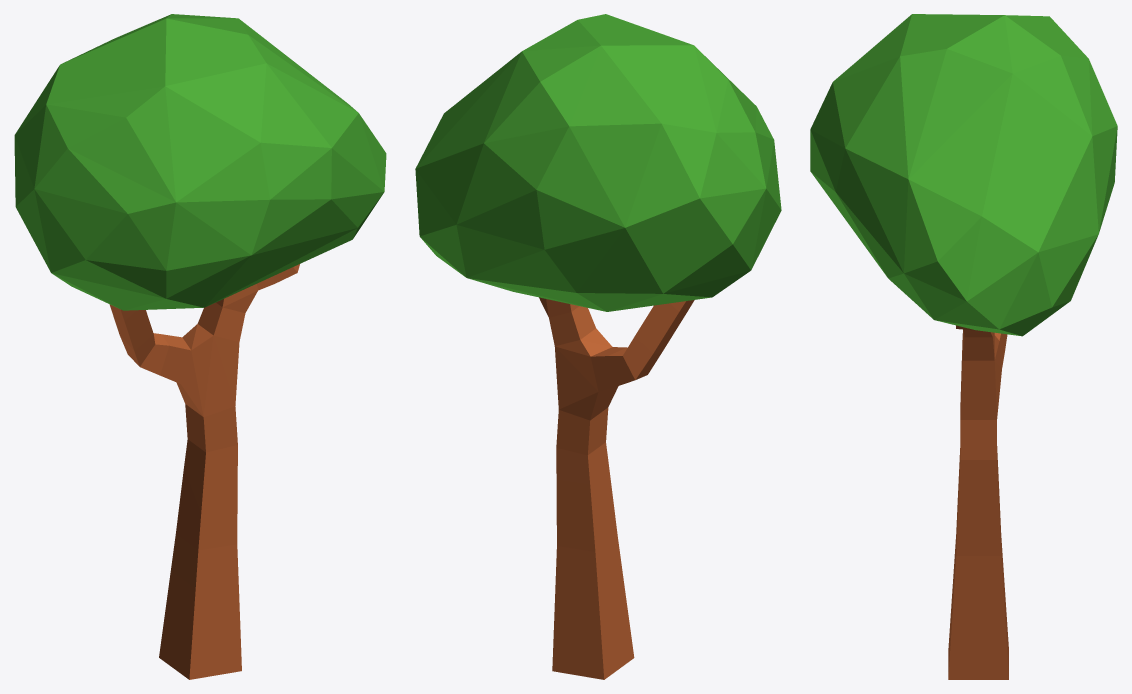
File: tree.gltf
3 views of the same model, side by side, from view 1: azimuth 30°, elevation 25°; view 2: azimuth 150°, elevation 25°; view 3: azimuth 270°, elevation 25° (orthographic).
Parts seen in each view (by area): view 1: Icosphere, Plane; view 2: Icosphere, Plane; view 3: Icosphere, Plane.
Part boxes in pixels (x1,y1,x2,y2): Icosphere: [14, 14, 386, 310]; Plane: [109, 264, 299, 679]; Icosphere: [415, 14, 781, 311]; Plane: [539, 297, 694, 679]; Icosphere: [810, 14, 1117, 336]; Plane: [948, 325, 1008, 679].
Bounding box in the file's own units: 1.94 × 3.46 × 1.5.
